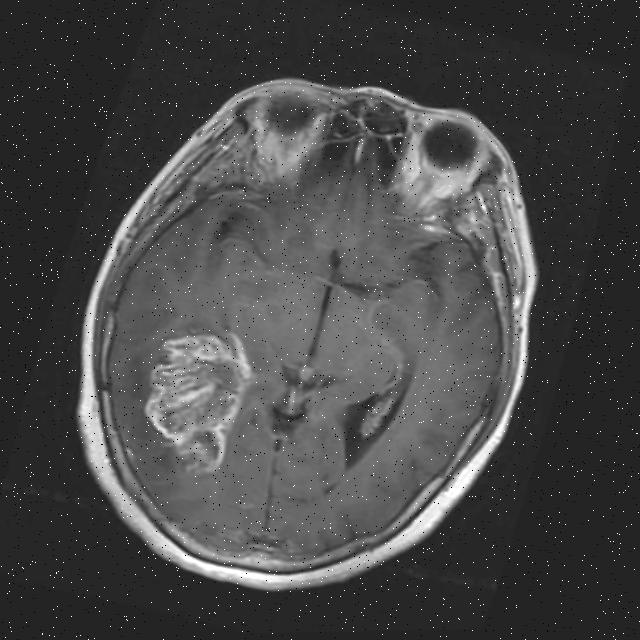Glioma: (124, 315, 263, 481)
